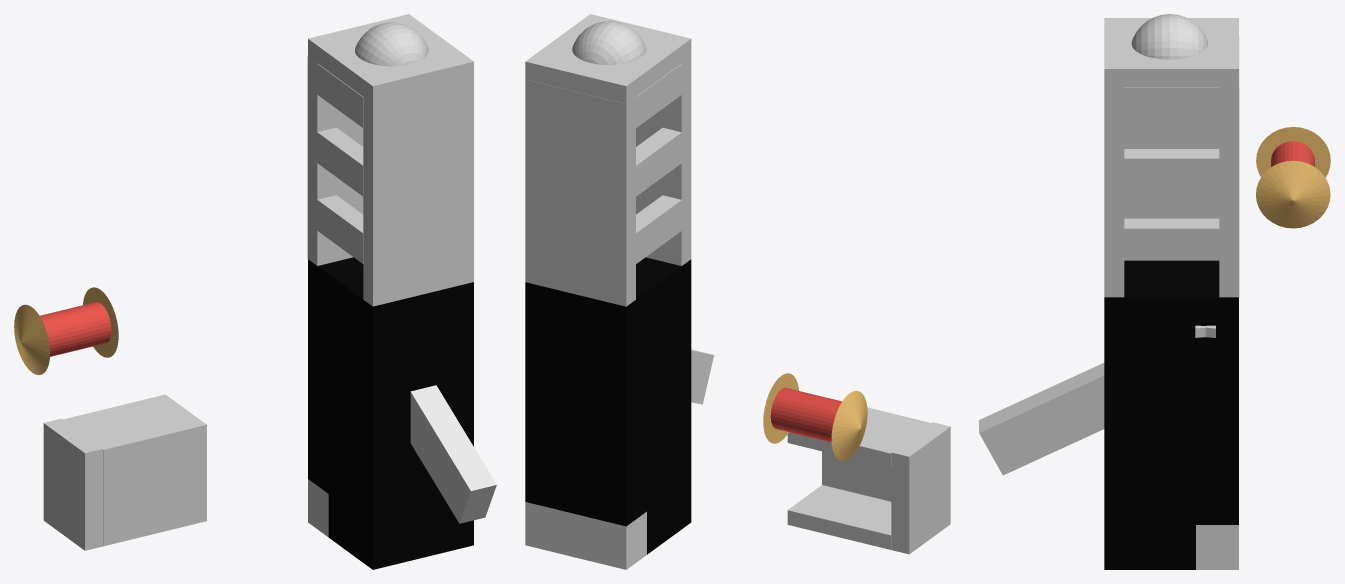
The model's file is lasermodel.fbx.
The picture shows the model from 3 angles, left to right: view 1: azimuth 30°, elevation 25°; view 2: azimuth 150°, elevation 25°; view 3: azimuth 270°, elevation 25°; orthographic projection. The views are drawn at different scales.
Parts seen in each view (by area): view 1: End, Body, Ammo Hold, Grip, Energy Cell, Sphere; view 2: Body, End, Ammo Hold, Energy Cell, Sphere, Grip; view 3: Body, End, Grip, Energy Cell, Sphere.
Boxes of the visible parts, x1=… form: End: x1=307, y1=14, x2=473, y2=306; Body: x1=308, y1=257, x2=473, y2=569; Ammo Hold: x1=43, y1=394, x2=206, y2=550; Grip: x1=410, y1=385, x2=496, y2=523; Energy Cell: x1=14, y1=287, x2=118, y2=374; Sphere: x1=355, y1=22, x2=428, y2=66; Body: x1=525, y1=257, x2=691, y2=569; End: x1=525, y1=14, x2=691, y2=306; Ammo Hold: x1=787, y1=398, x2=950, y2=554; Energy Cell: x1=763, y1=373, x2=867, y2=461; Sphere: x1=572, y1=21, x2=645, y2=65; Grip: x1=691, y1=349, x2=714, y2=404; Body: x1=1104, y1=260, x2=1238, y2=569; End: x1=1104, y1=18, x2=1239, y2=297; Grip: x1=979, y1=363, x2=1104, y2=475; Energy Cell: x1=1256, y1=127, x2=1330, y2=228; Sphere: x1=1131, y1=14, x2=1208, y2=59.
Size of the model in its own units: 462 by 589 by 357.
